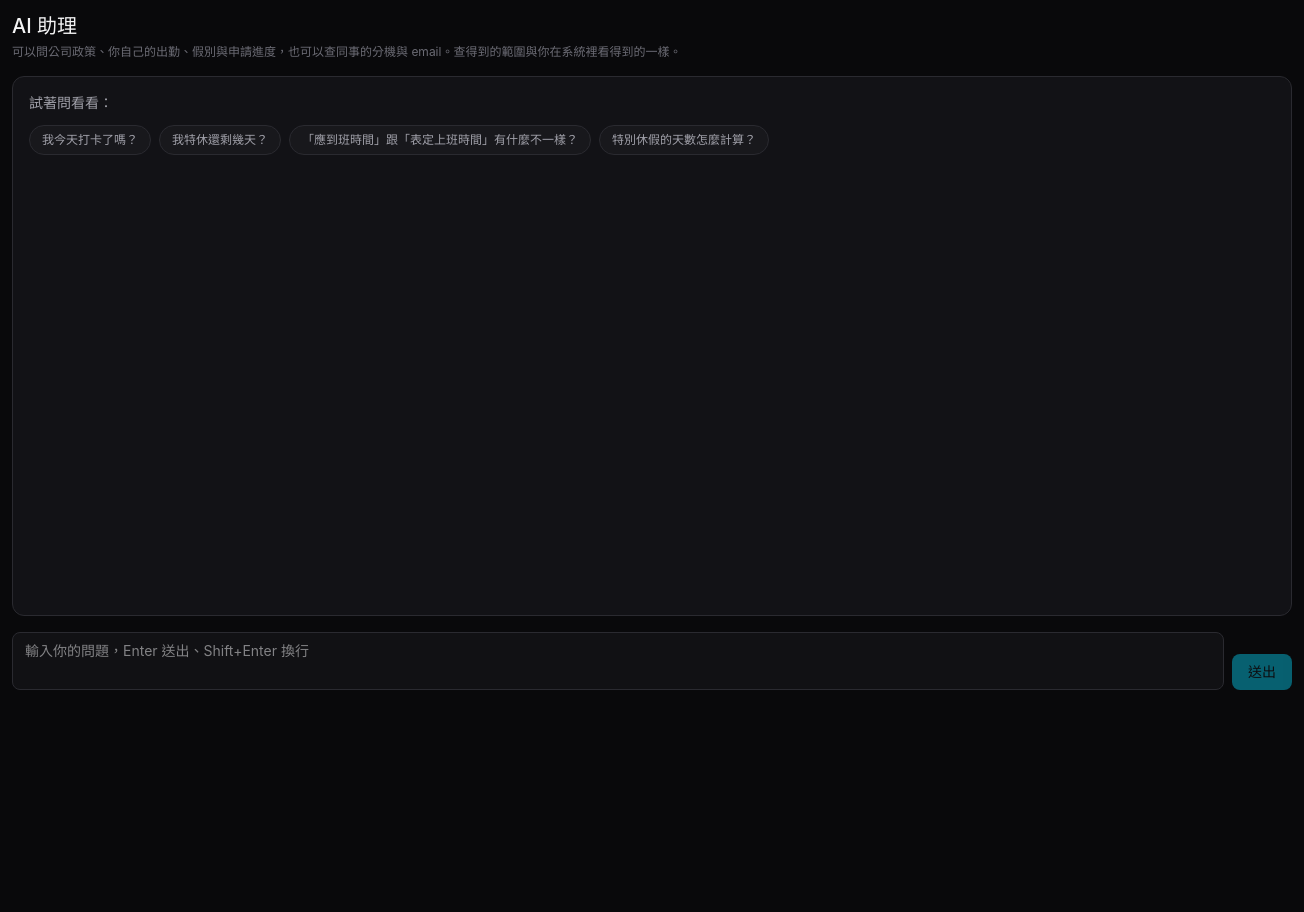
Scenario: CHAT_UNAVAILABLE 顯示專屬文案
Type "問題" into the text box with placeholder "輸入你的問題，Enter 送出、Shift+Enter 換行".
click(618, 661); type("問題")  # box [12,632,1224,690]
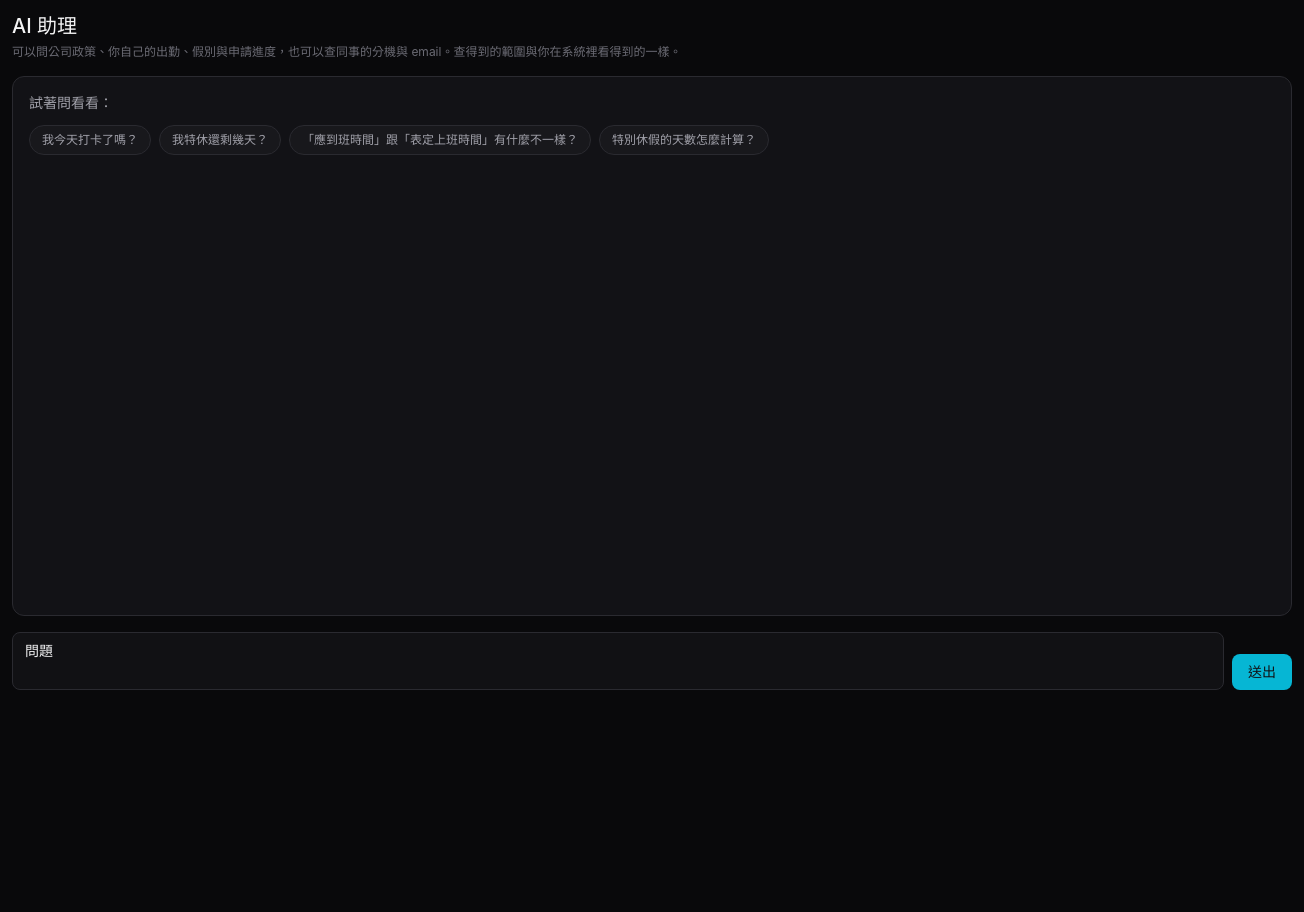
Click the button "送出".
click(1262, 672)  # box [1232,654,1292,690]
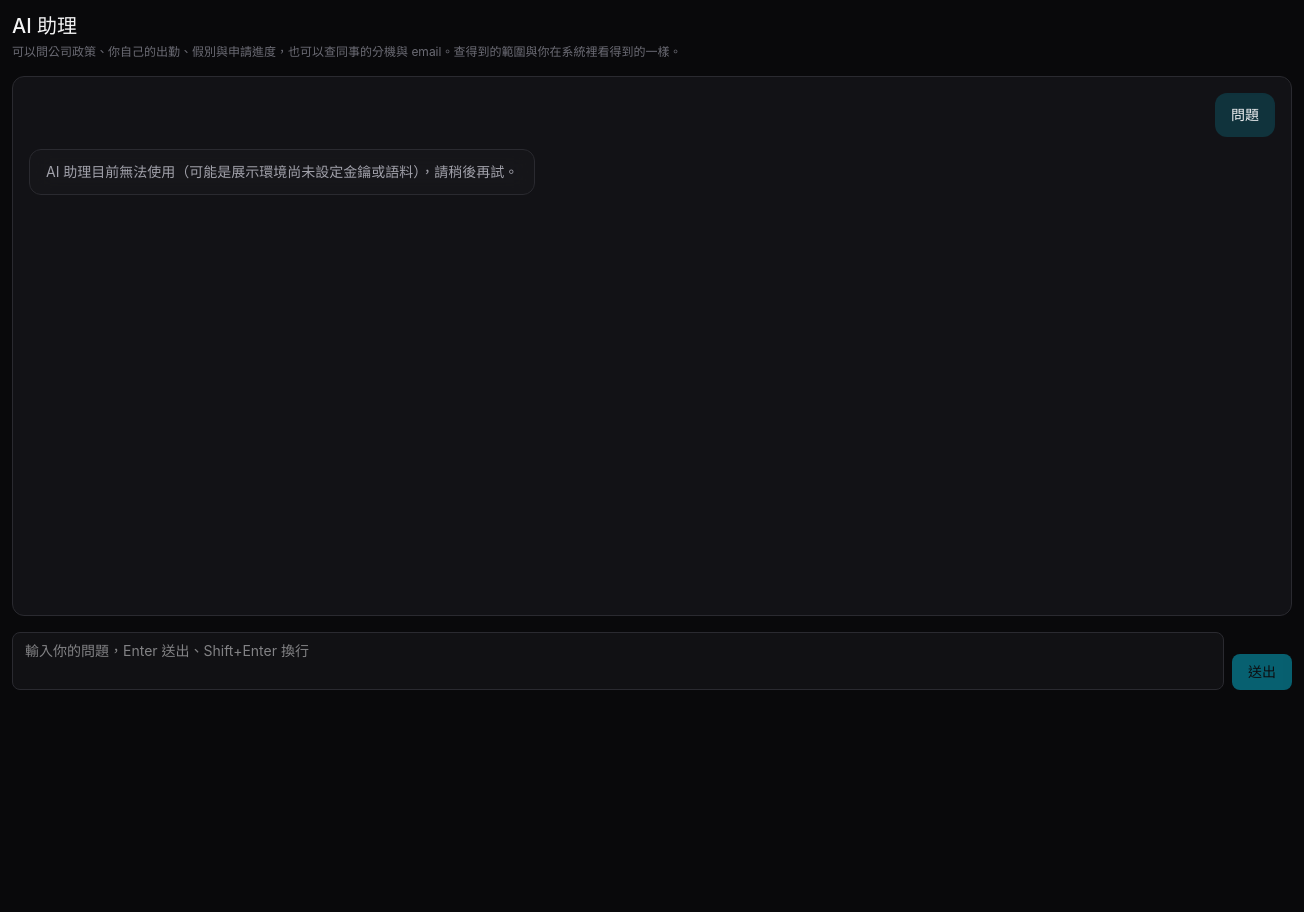
Expected: the text "AI 助理目前無法使用（可能是展示環境尚未設定金鑰或語料），請稍後再試。" is shown, [46,163,518,180]
